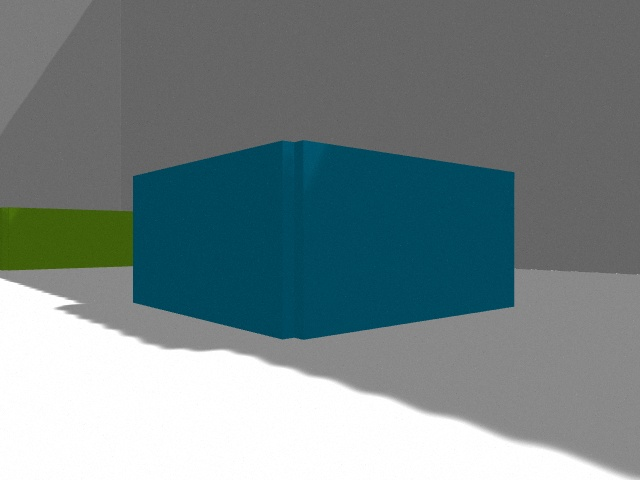blue_drop_zone: (133, 140, 515, 340)
green_drop_zone: (0, 207, 133, 271)
